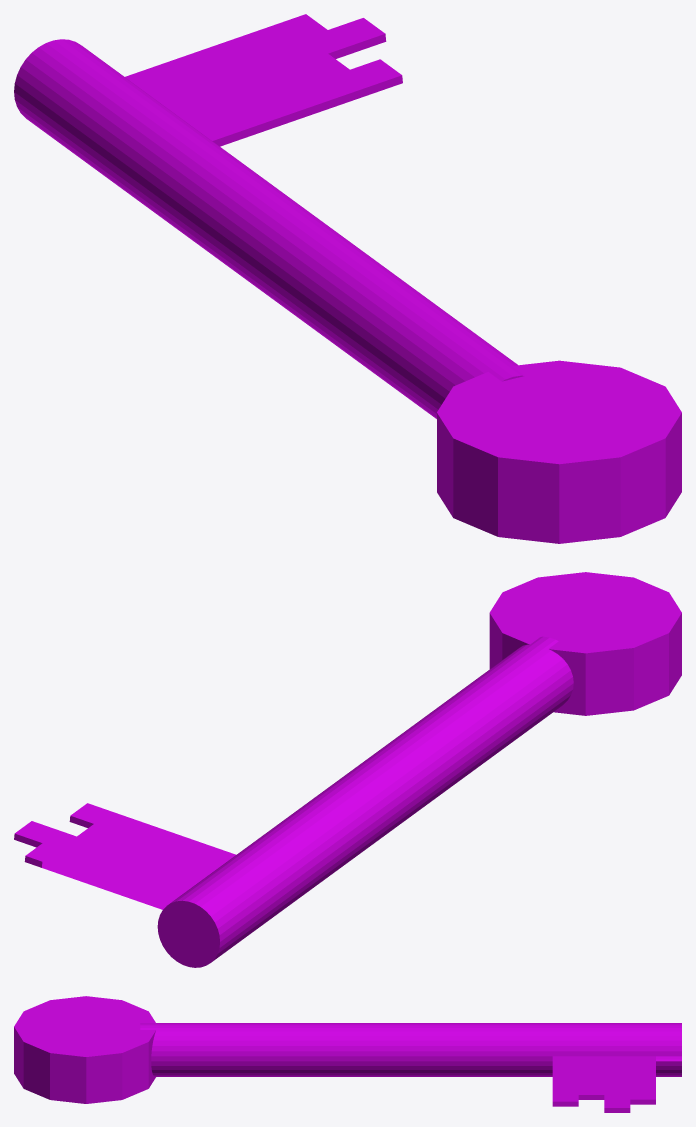
The model's file is Clef.fbx.
The picture shows the model from 3 angles, top to bottom: view 1: azimuth 30°, elevation 25°; view 2: azimuth 150°, elevation 25°; view 3: azimuth 270°, elevation 25°; orthographic projection. The views are drawn at different scales.
Visible parts, largest first — view 1: Clef; view 2: Clef; view 3: Clef.
Boxes of the visible parts, x1=… form: Clef: x1=14, y1=14, x2=681, y2=543; Clef: x1=14, y1=572, x2=681, y2=967; Clef: x1=14, y1=996, x2=681, y2=1112.
Size of the model in its own units: 14.05 by 3 by 37.
